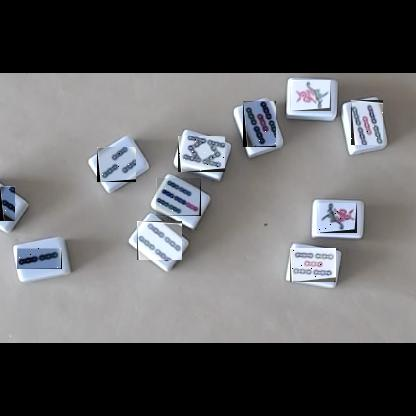1s: (291, 80, 331, 111), (318, 203, 357, 233)
2s: (17, 248, 62, 269)
3s: (97, 147, 136, 182), (0, 186, 15, 221)
4s: (137, 221, 182, 260)
5s: (290, 248, 336, 282), (243, 101, 276, 147), (351, 100, 383, 145)
7s: (156, 178, 201, 216)
8s: (178, 136, 225, 172)
